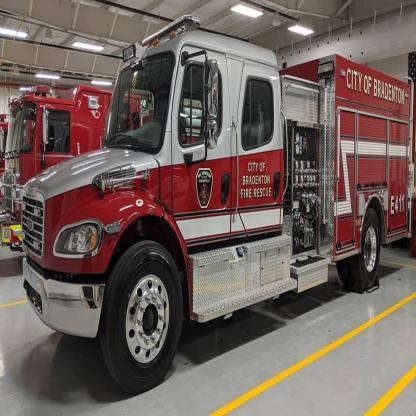fire-truck: (3, 9, 416, 408)
